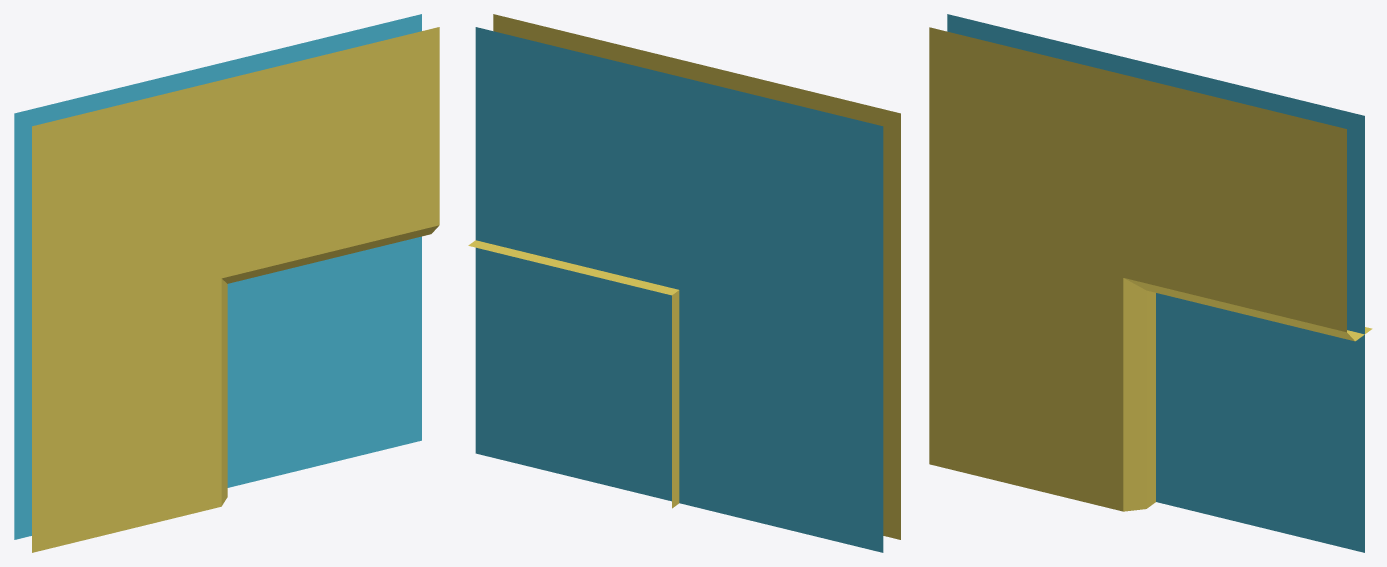
Rendered from water2inner.glb.
The picture shows the model from 3 angles, left to right: view 1: azimuth 30°, elevation 25°; view 2: azimuth 150°, elevation 25°; view 3: azimuth 330°, elevation 25°; orthographic projection. The views are drawn at different scales.
Visible parts, largest first — view 1: Plane.001, Plane.002; view 2: Plane.002, Plane.001; view 3: Plane.001, Plane.002.
Part boxes in pixels (bbox=[...]): Plane.001: bbox=[32, 27, 439, 552]; Plane.002: bbox=[14, 14, 421, 539]; Plane.002: bbox=[475, 27, 883, 552]; Plane.001: bbox=[468, 14, 900, 539]; Plane.001: bbox=[929, 27, 1372, 511]; Plane.002: bbox=[947, 14, 1364, 552].
Size of the model in its own units: 1 by 1 by 0.107.
